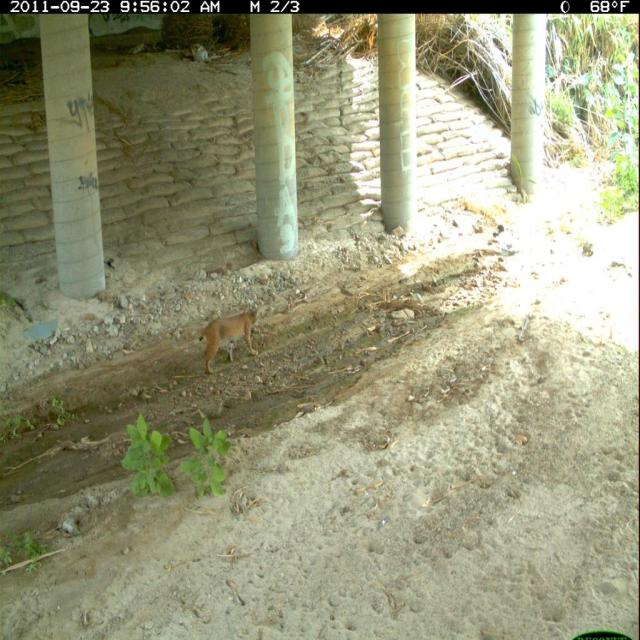bobcat: (195, 300, 265, 377)
